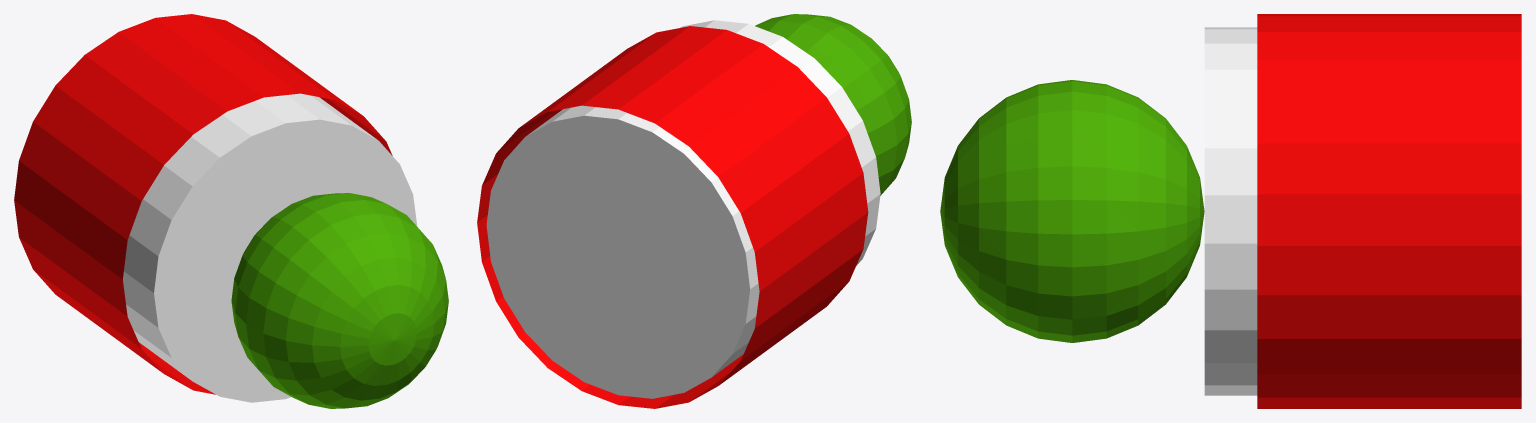
The model's file is LPE75cm.obj.
3 views of the same model, side by side, from view 1: azimuth 30°, elevation 25°; view 2: azimuth 150°, elevation 25°; view 3: azimuth 270°, elevation 25° (orthographic). The views are drawn at different scales.
Bounding box in the file's own units: 0.75 × 0.75 × 1.1.
